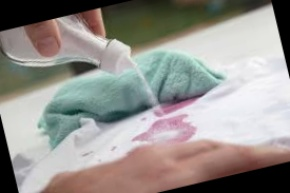wine: (156, 86, 196, 115), (152, 109, 190, 132), (179, 127, 194, 141), (132, 131, 146, 144)
